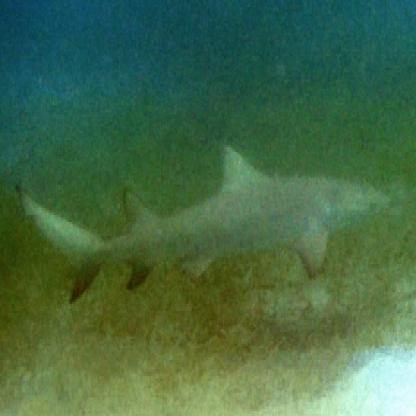shark: (13, 139, 388, 305)
